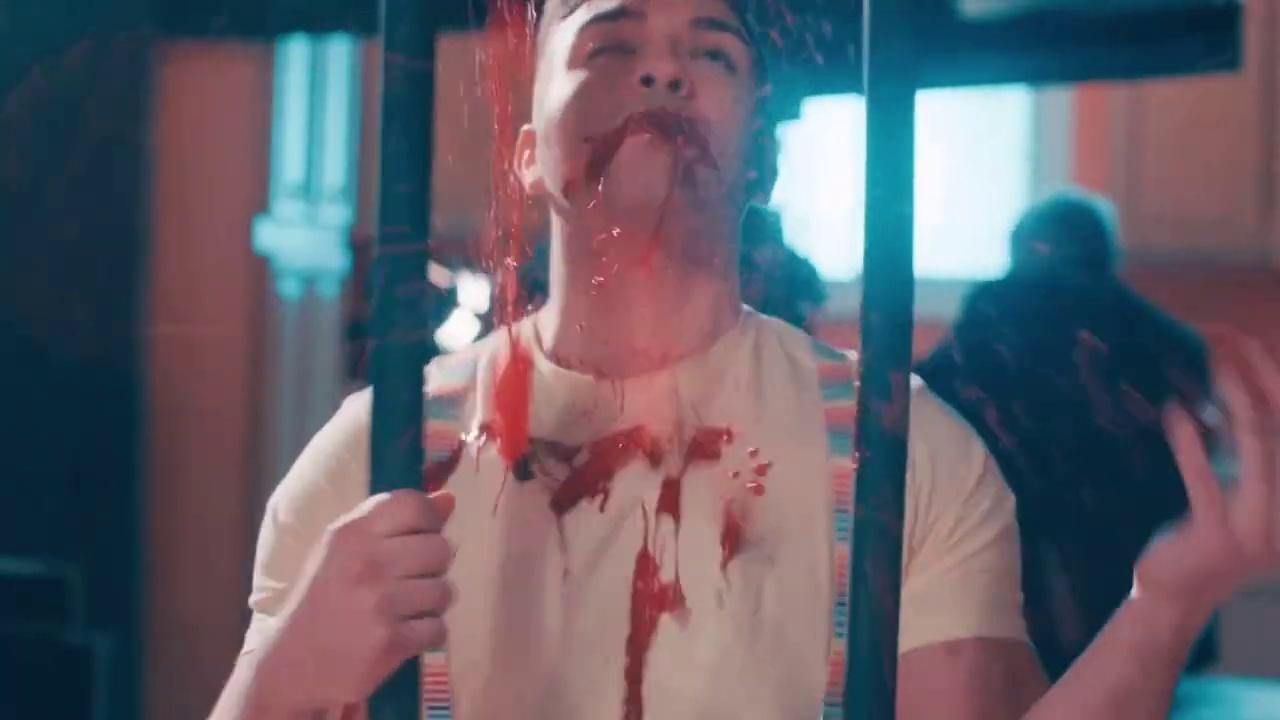Fire: (863, 197, 1220, 514)
